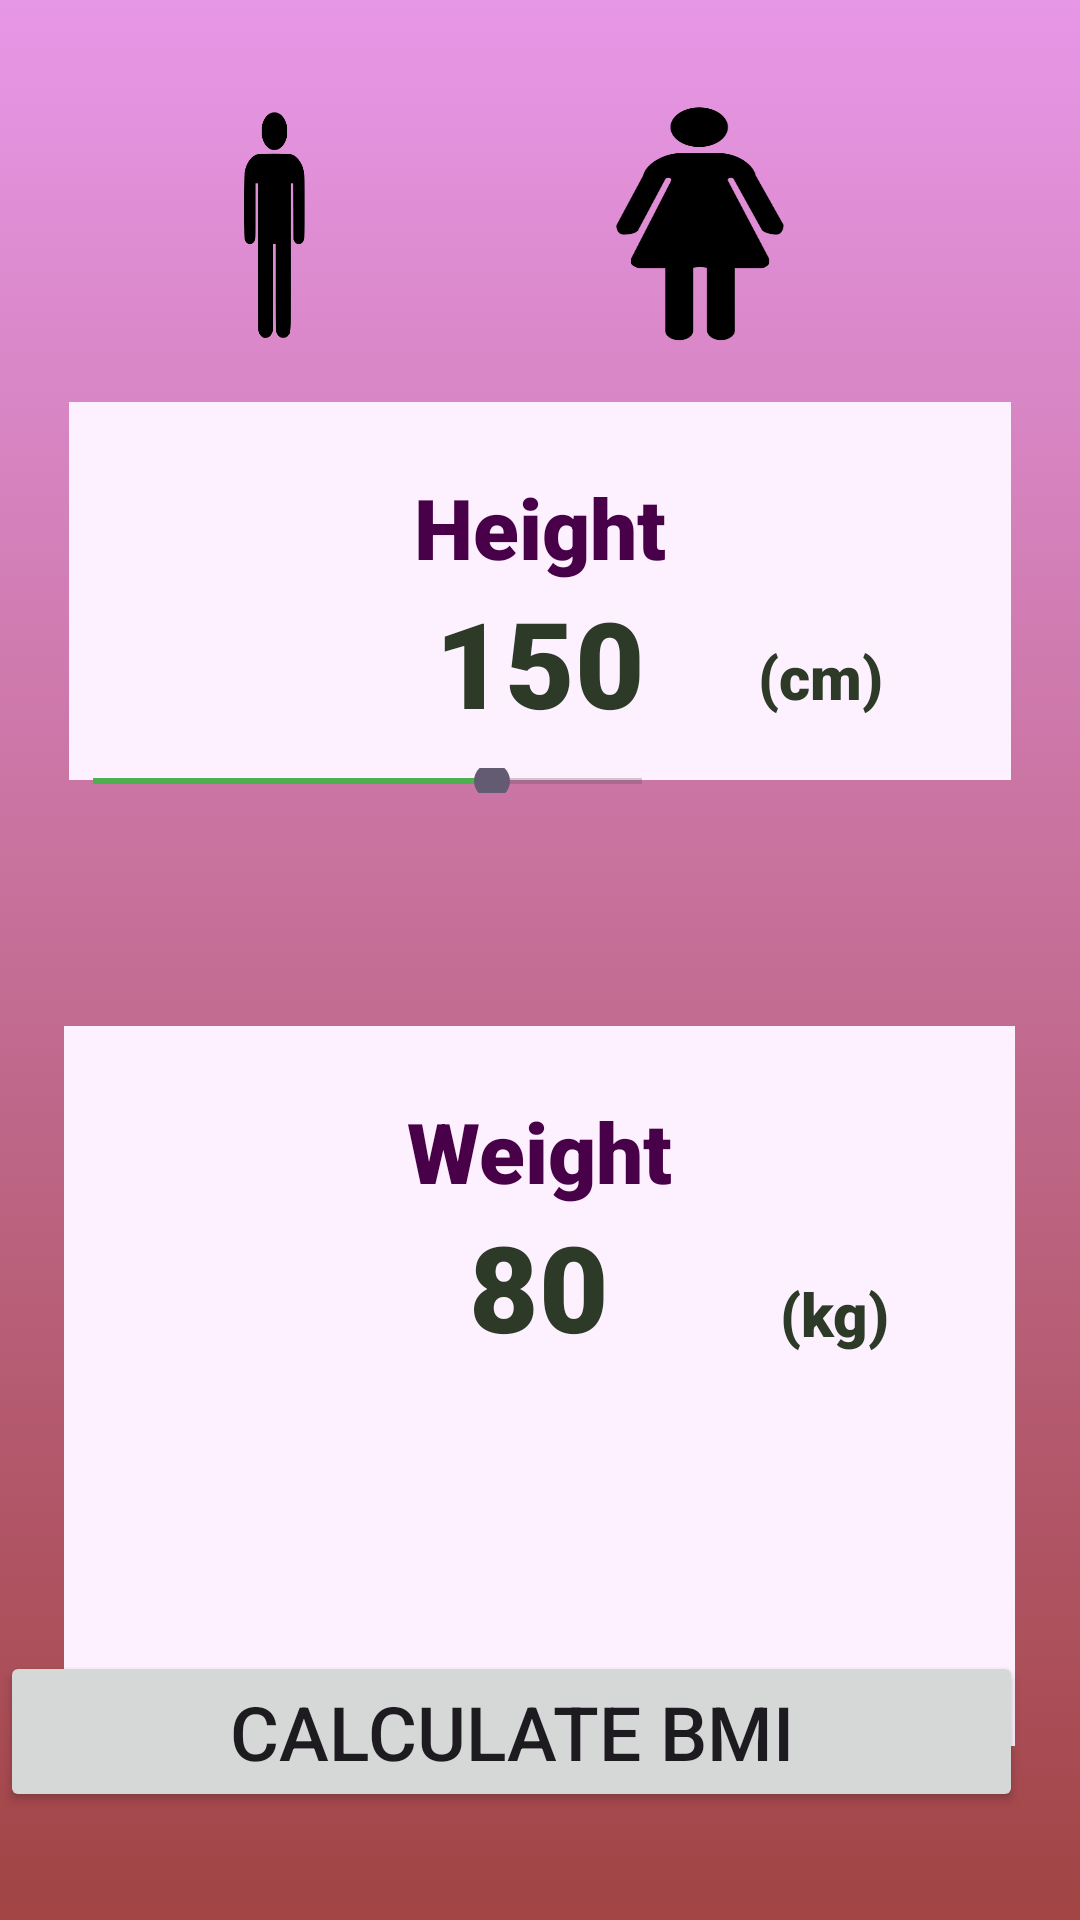

Icons on this 1080 x 1920 Android screen, each with the point to tap as point (x, y):
female: point (700, 223)
male: point (274, 225)
